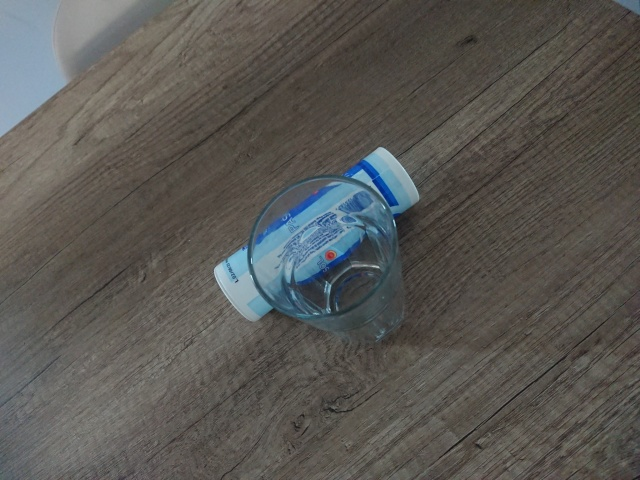Solana Pag Fine Sea Salt 250g: (210, 140, 424, 327)
